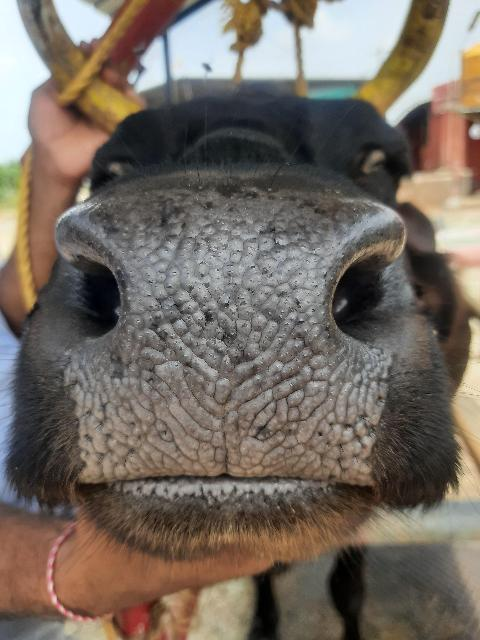Muzzle: (90, 210, 360, 476)
